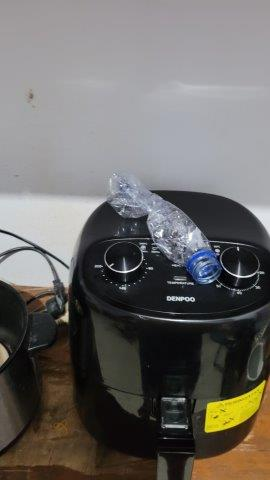botolplastik: (108, 171, 224, 286)
